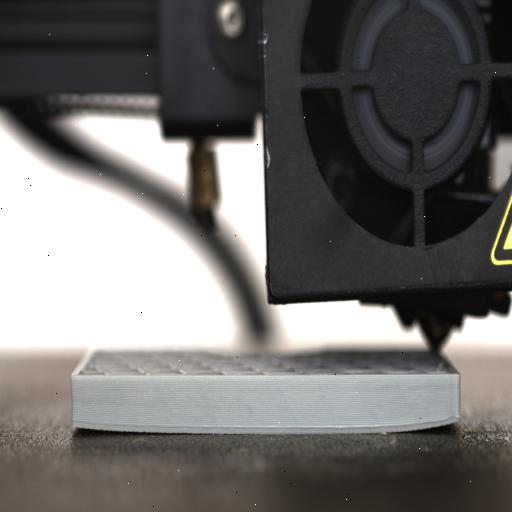warp: (360, 400, 474, 438), (58, 417, 146, 441)
